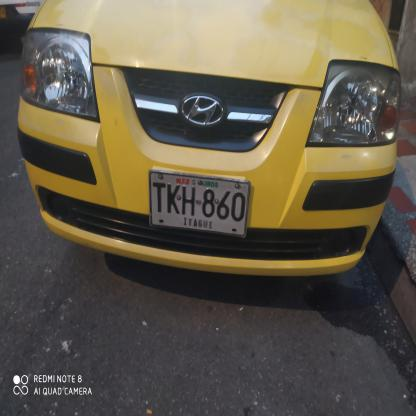placa: (141, 166, 254, 240)
